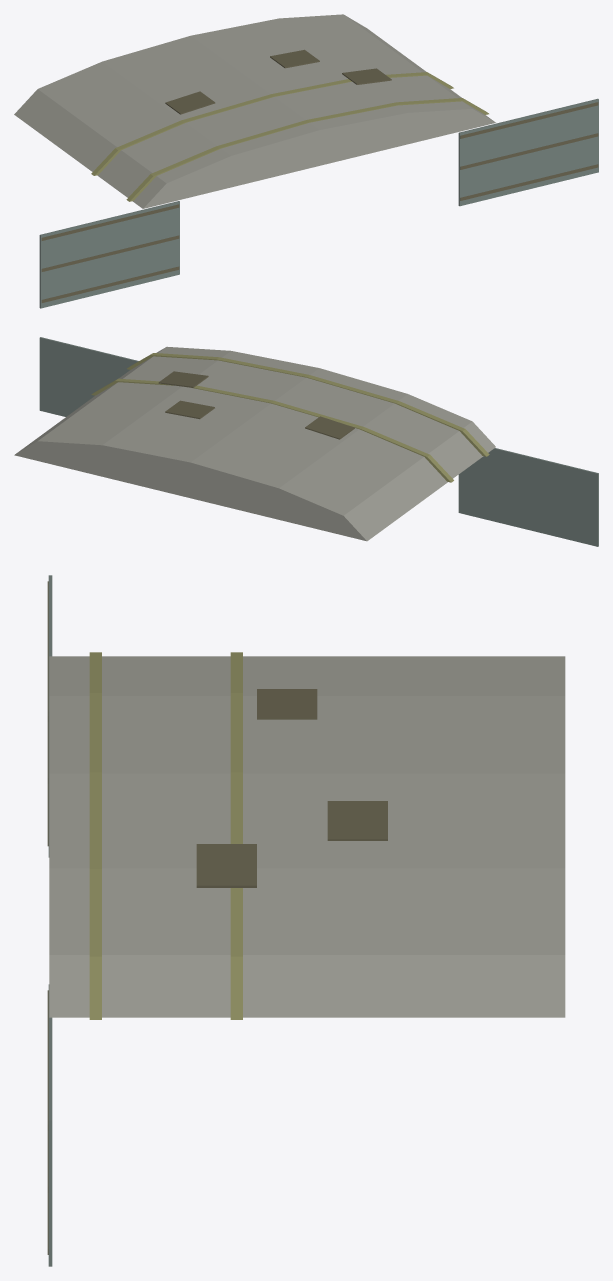
Rendered from SM_HangarAbierto_v3_Castigado_LOD1.fbx.
3 views of the same model, one above another, from view 1: azimuth 30°, elevation 25°; view 2: azimuth 150°, elevation 25°; view 3: azimuth 270°, elevation 25° (orthographic). The views are drawn at different scales.
Parts seen in each view (by area): view 1: Cubierta, Porton_O, Porton_E; view 2: Cubierta, Porton_O, Porton_E; view 3: Cubierta, Porton_E, Porton_O.
Boxes of the visible parts, x1,y1,x2,y2 form: Cubierta: (14, 14, 495, 208); Porton_O: (39, 201, 179, 308); Porton_E: (458, 98, 598, 206); Cubierta: (14, 346, 495, 541); Porton_O: (458, 448, 598, 546); Porton_E: (39, 337, 138, 416); Cubierta: (49, 652, 565, 1019); Porton_E: (47, 984, 52, 1266); Porton_O: (47, 575, 52, 857).
Size of what is drawn, in the model's own units: 63.98 by 12.44 by 25.69.
